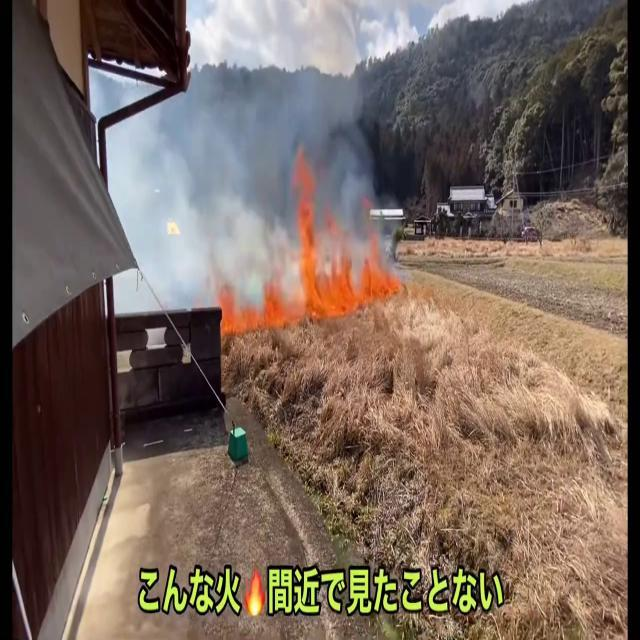Fire: (287, 146, 401, 318), (216, 276, 292, 342)
Smoke: (110, 61, 366, 302)
